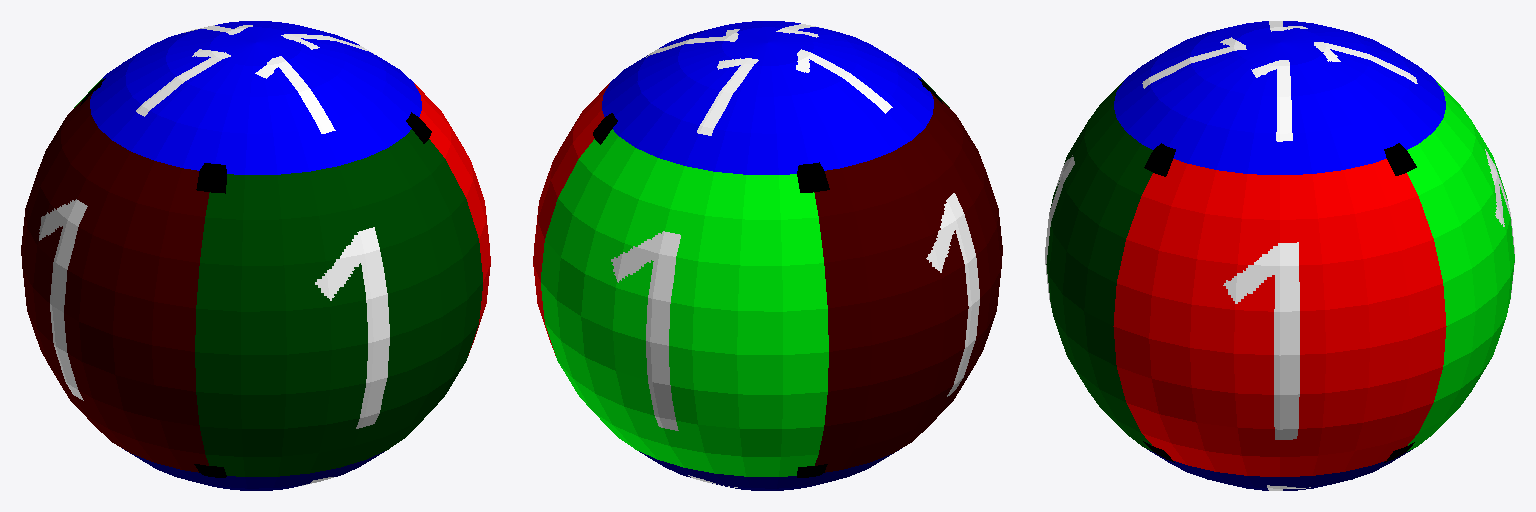
The picture shows the model from 3 angles: view 1: azimuth 30°, elevation 25°; view 2: azimuth 150°, elevation 25°; view 3: azimuth 270°, elevation 25°; orthographic projection.
Parts seen in each view (by area): view 1: Sphere.001; view 2: Sphere.001; view 3: Sphere.001.
Part boxes in pixels (x1,y1,x2,y2): Sphere.001: (21, 21, 490, 490); Sphere.001: (533, 21, 1002, 490); Sphere.001: (1045, 21, 1514, 490).
Bounding box in the file's own units: 1 × 1 × 1.
1 materials, 1 textured.